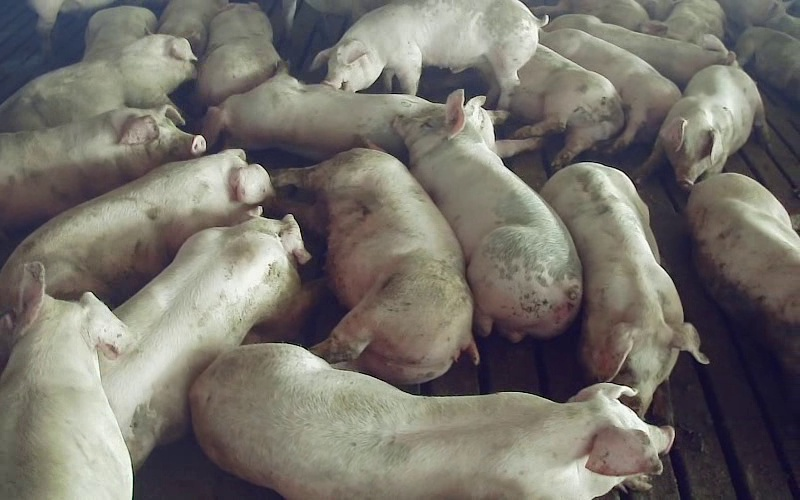pig: (190, 344, 673, 499), (0, 149, 273, 368), (100, 216, 309, 468), (274, 148, 476, 384), (541, 164, 707, 416), (0, 262, 130, 499), (686, 173, 799, 413), (0, 105, 205, 230), (314, 0, 545, 108), (202, 64, 435, 159), (540, 28, 680, 152), (636, 65, 767, 189), (510, 44, 624, 169), (544, 14, 735, 87), (195, 3, 279, 105)
